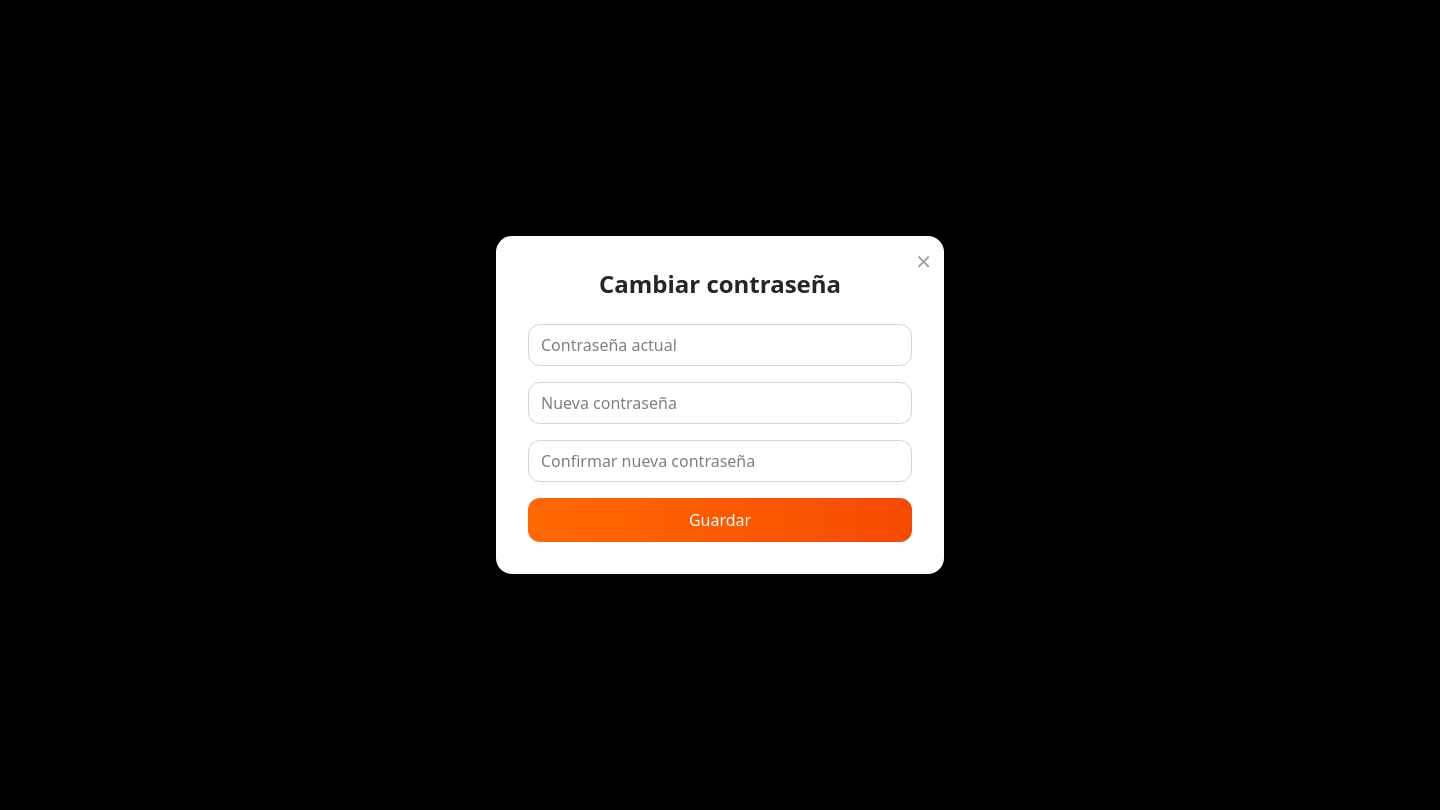
ChangePasswordModal › debería mostrar error si la API falla
Type "old" into the password field with placeholder "Contraseña actual" at (720, 345), box [528, 324, 912, 366]
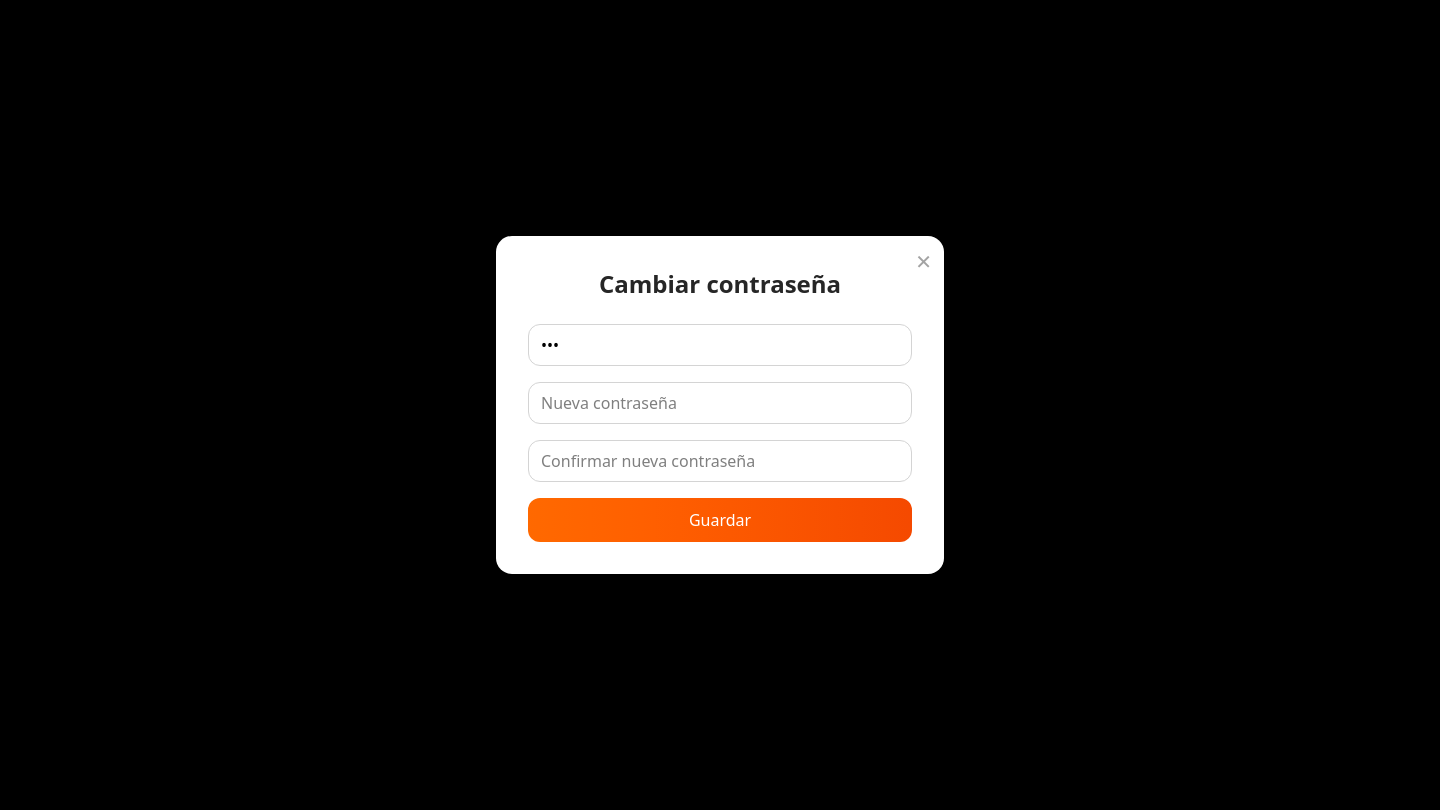
Type "newpass" into the password field with placeholder "Nueva contraseña" at (720, 403), box [528, 382, 912, 424]
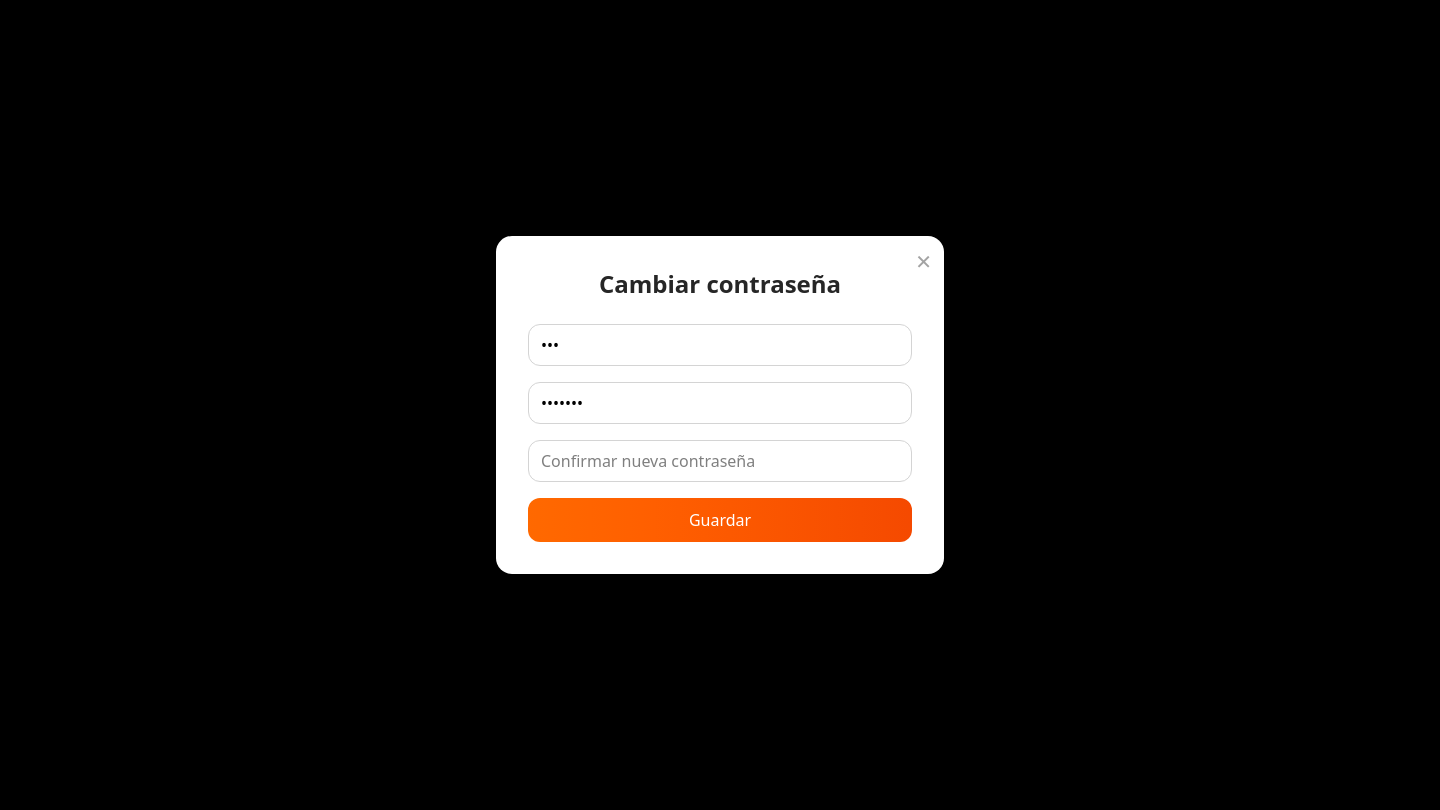
Type "newpass" into the password field with placeholder "Confirmar nueva contraseña" at (720, 461), box [528, 440, 912, 482]
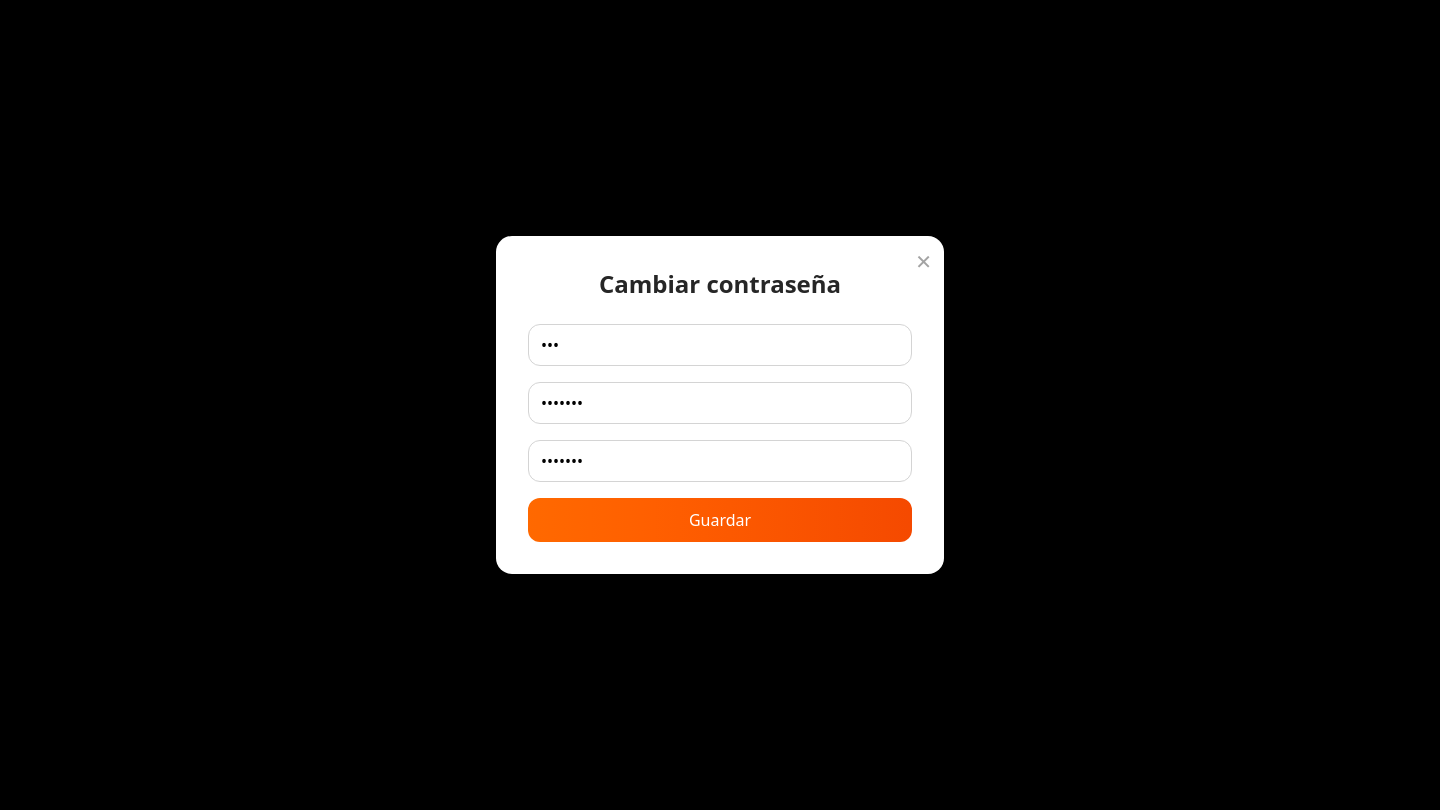
Click the button "Guardar" at (720, 520), box [528, 498, 912, 542]
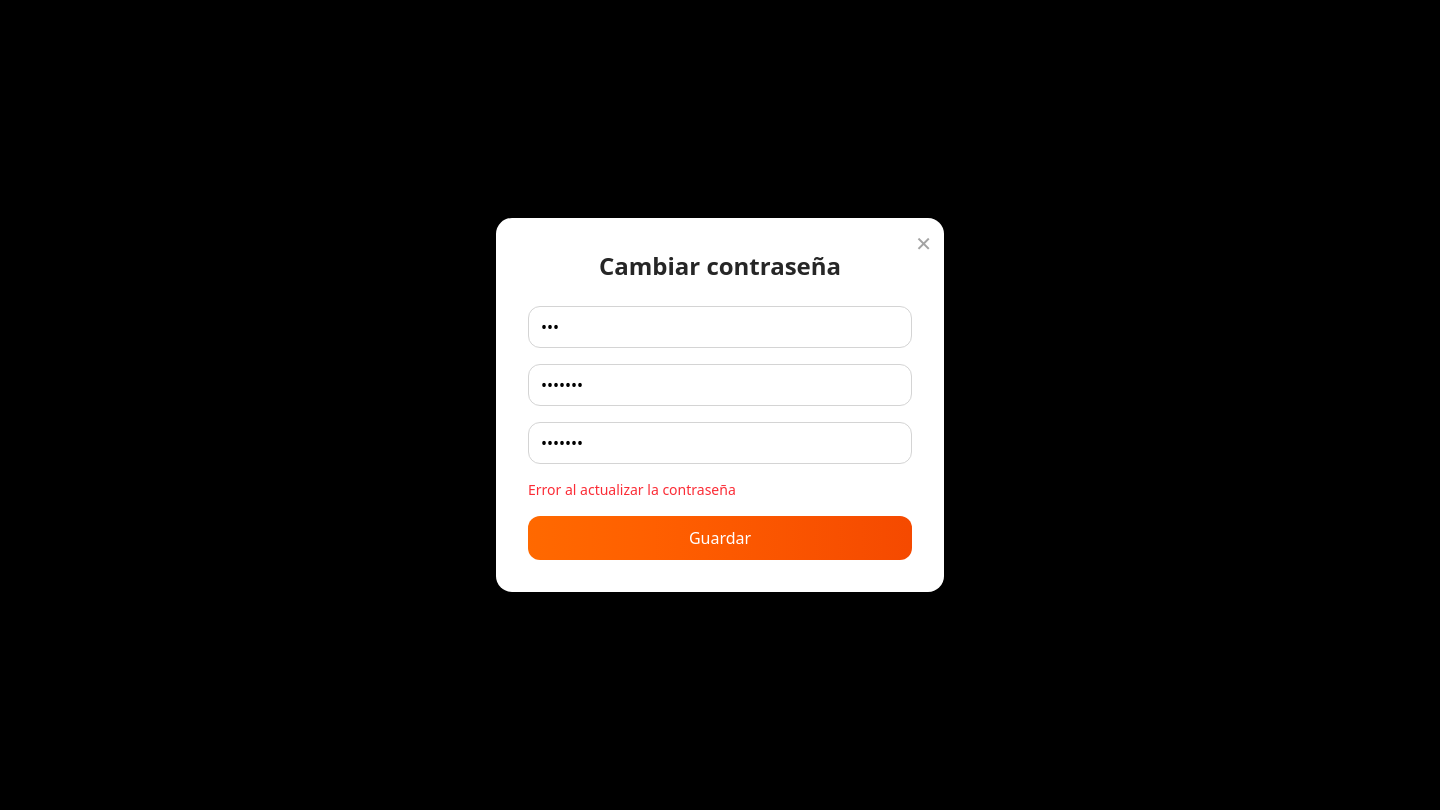
Check: the text "Error al actualizar la contraseña" is shown, box [528, 480, 736, 499]
